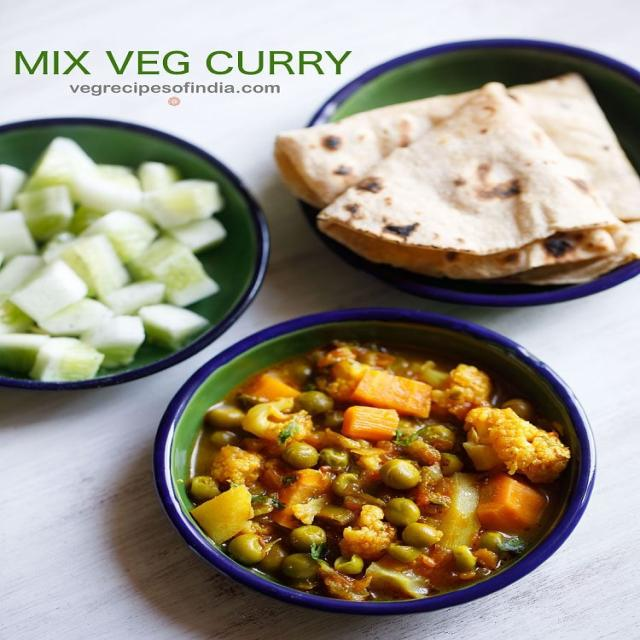chapathi: (264, 59, 640, 295)
